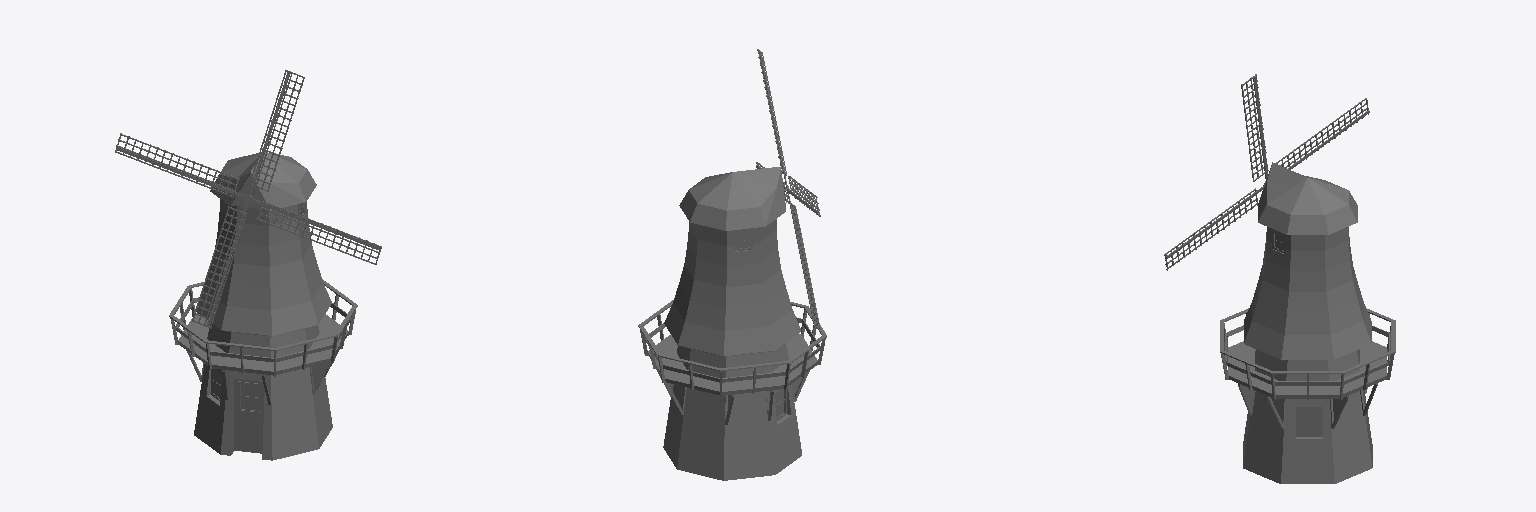
File: windmill.obj
The picture shows the model from 3 angles: view 1: azimuth 30°, elevation 25°; view 2: azimuth 150°, elevation 25°; view 3: azimuth 270°, elevation 25°; orthographic projection.
Visible parts, largest first — view 1: map:windmill1 map:windmill:Upper_Section_001, map:windmill1 map:windmill:Bottom_Section_001, map:windmill1 map:windmill:Middle_Section_001, map:windmill1 map:windmill:Top_Section_001, map:windmill1 map:windmill:Post_001, map:windmill1 map:windmill:Post_002; view 2: map:windmill1 map:windmill:Upper_Section_001, map:windmill1 map:windmill:Bottom_Section_001, map:windmill1 map:windmill:Top_Section_001, map:windmill1 map:windmill:Middle_Section_001, map:windmill1 map:windmill:Post_007, map:windmill1 map:windmill:Post_006; view 3: map:windmill1 map:windmill:Upper_Section_001, map:windmill1 map:windmill:Bottom_Section_001, map:windmill1 map:windmill:Top_Section_001, map:windmill1 map:windmill:Middle_Section_001, map:windmill1 map:windmill:Window_002, map:windmill1 map:windmill:Post_004.
Boxes of the visible parts, x1=… form: map:windmill1 map:windmill:Upper_Section_001: x1=195, y1=199, x2=331, y2=336; map:windmill1 map:windmill:Bottom_Section_001: x1=194, y1=364, x2=332, y2=460; map:windmill1 map:windmill:Middle_Section_001: x1=178, y1=313, x2=348, y2=375; map:windmill1 map:windmill:Top_Section_001: x1=210, y1=152, x2=316, y2=210; map:windmill1 map:windmill:Post_001: x1=202, y1=340, x2=273, y2=372; map:windmill1 map:windmill:Post_002: x1=270, y1=334, x2=334, y2=369; map:windmill1 map:windmill:Upper_Section_001: x1=664, y1=219, x2=800, y2=356; map:windmill1 map:windmill:Bottom_Section_001: x1=663, y1=384, x2=801, y2=480; map:windmill1 map:windmill:Top_Section_001: x1=679, y1=167, x2=785, y2=230; map:windmill1 map:windmill:Middle_Section_001: x1=647, y1=333, x2=817, y2=395; map:windmill1 map:windmill:Post_007: x1=715, y1=361, x2=786, y2=393; map:windmill1 map:windmill:Post_006: x1=656, y1=353, x2=720, y2=389; map:windmill1 map:windmill:Upper_Section_001: x1=1244, y1=227, x2=1371, y2=359; map:windmill1 map:windmill:Bottom_Section_001: x1=1243, y1=390, x2=1372, y2=483; map:windmill1 map:windmill:Top_Section_001: x1=1258, y1=162, x2=1357, y2=234; map:windmill1 map:windmill:Middle_Section_001: x1=1228, y1=341, x2=1386, y2=398; map:windmill1 map:windmill:Window_002: x1=1296, y1=407, x2=1322, y2=436; map:windmill1 map:windmill:Post_004: x1=1267, y1=371, x2=1341, y2=399.
Size of the model in its own units: 37.69 by 70.4 by 38.76.